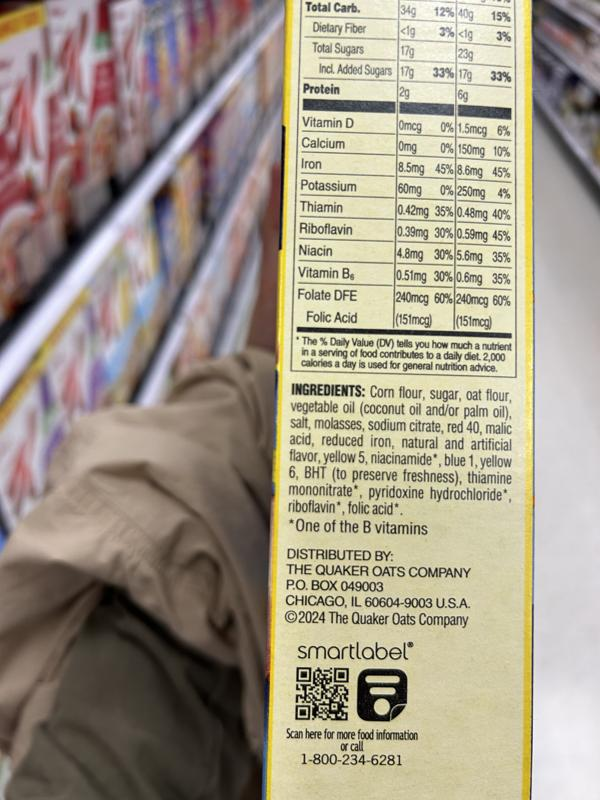ingredients: (286, 381, 513, 516)
